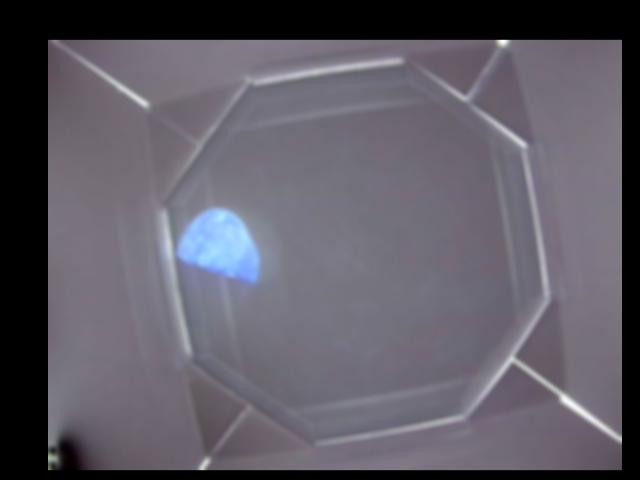Potato: (176, 210, 258, 283)
